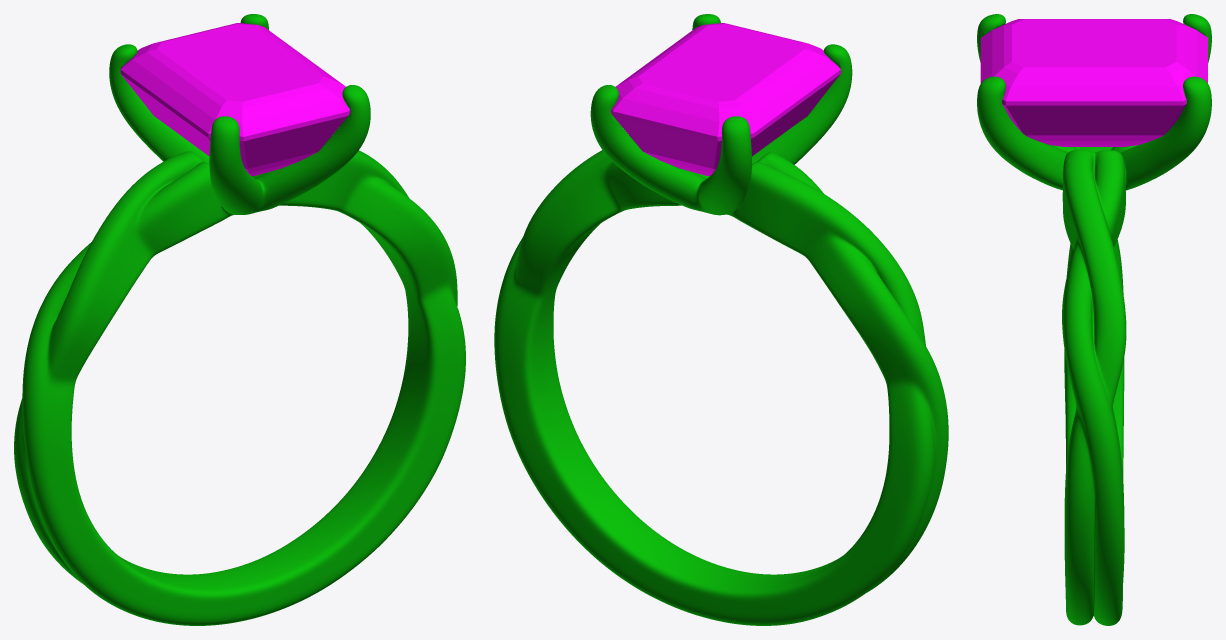
File: BE1M56D_EM_200ct_RENDER.glb
The picture shows the model from 3 angles, left to right: view 1: azimuth 30°, elevation 25°; view 2: azimuth 150°, elevation 25°; view 3: azimuth 270°, elevation 25°; orthographic projection.
Parts seen in each view (by area): view 1: Metal 01, CS_Diamond_Emerald; view 2: Metal 01, CS_Diamond_Emerald; view 3: Metal 01, CS_Diamond_Emerald.
Boxes of the visible parts, x1,y1,x2,y2 form: Metal 01: (14,14,465,625); CS_Diamond_Emerald: (120,23,350,175); Metal 01: (494,14,948,625); CS_Diamond_Emerald: (611,23,840,175); Metal 01: (977,14,1211,625); CS_Diamond_Emerald: (980,19,1207,146).
Bounding box in the file's own units: 20.34 × 24.35 × 9.3.
